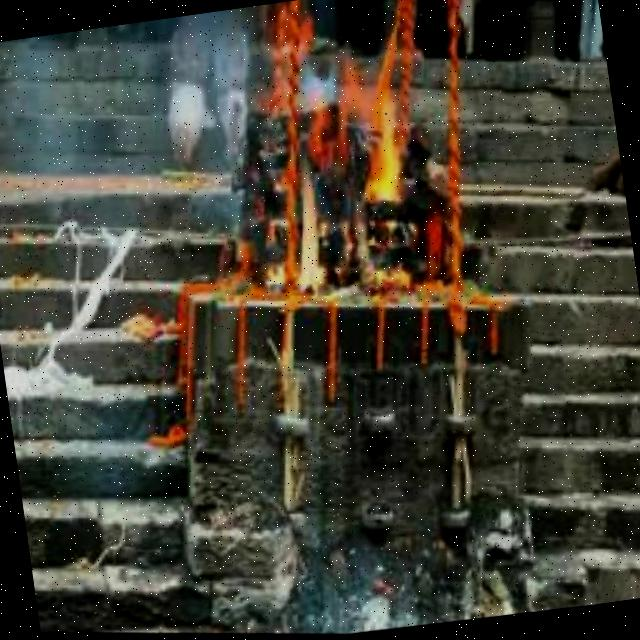fire: (241, 31, 443, 321)
